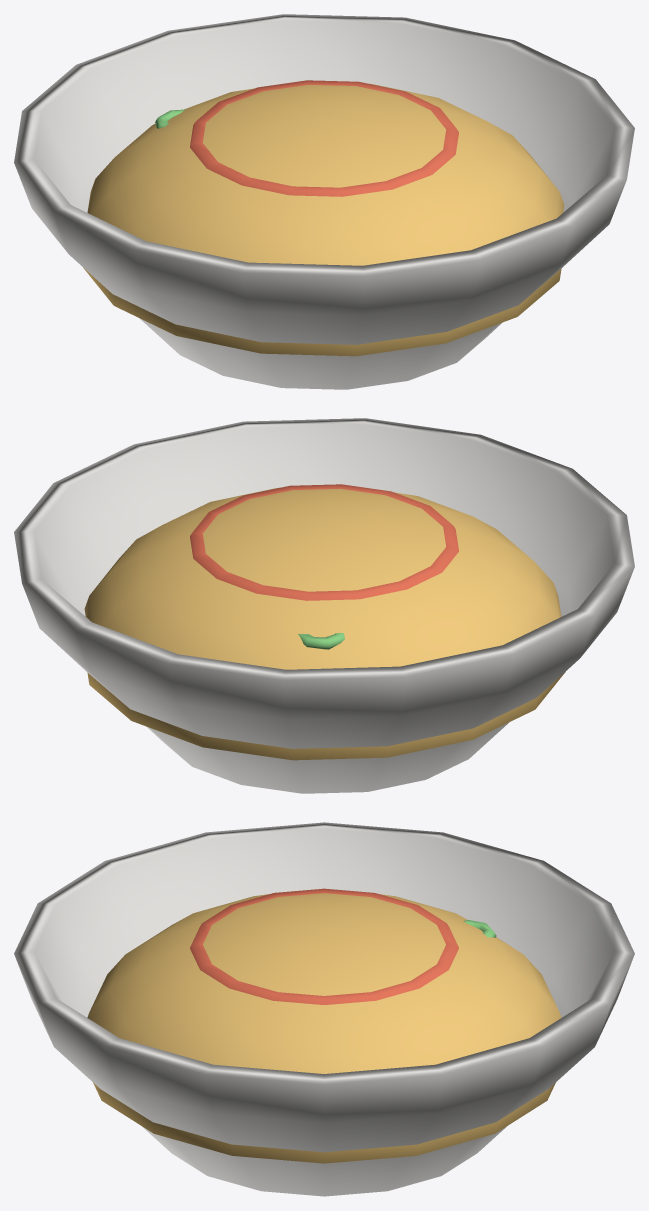
The model's file is gourmet-wok-bowl-ultralight.glb.
The picture shows the model from 3 angles, top to bottom: view 1: azimuth 30°, elevation 25°; view 2: azimuth 150°, elevation 25°; view 3: azimuth 270°, elevation 25°; orthographic projection.
Parts seen in each view (by area): view 1: gourmet-wok-bowl_Mat_Ceramic_Plate_Node, gourmet-wok-bowl_Mat_Fried_Food_Node, gourmet-wok-bowl_Mat_Glossy_Sauce_Node; view 2: gourmet-wok-bowl_Mat_Ceramic_Plate_Node, gourmet-wok-bowl_Mat_Fried_Food_Node, gourmet-wok-bowl_Mat_Glossy_Sauce_Node, gourmet-wok-bowl_Mat_Fresh_Vegetables_Node; view 3: gourmet-wok-bowl_Mat_Ceramic_Plate_Node, gourmet-wok-bowl_Mat_Fried_Food_Node, gourmet-wok-bowl_Mat_Glossy_Sauce_Node.
Part boxes in pixels (x1=…): gourmet-wok-bowl_Mat_Ceramic_Plate_Node: x1=14, y1=14, x2=634, y2=389; gourmet-wok-bowl_Mat_Fried_Food_Node: x1=83, y1=83, x2=564, y2=356; gourmet-wok-bowl_Mat_Glossy_Sauce_Node: x1=190, y1=80, x2=458, y2=196; gourmet-wok-bowl_Mat_Ceramic_Plate_Node: x1=14, y1=418, x2=634, y2=793; gourmet-wok-bowl_Mat_Fried_Food_Node: x1=84, y1=487, x2=565, y2=760; gourmet-wok-bowl_Mat_Glossy_Sauce_Node: x1=190, y1=484, x2=458, y2=600; gourmet-wok-bowl_Mat_Fresh_Vegetables_Node: x1=298, y1=633, x2=344, y2=649; gourmet-wok-bowl_Mat_Ceramic_Plate_Node: x1=14, y1=822, x2=634, y2=1196; gourmet-wok-bowl_Mat_Fried_Food_Node: x1=87, y1=893, x2=561, y2=1163; gourmet-wok-bowl_Mat_Glossy_Sauce_Node: x1=190, y1=888, x2=458, y2=1004.
Size of the model in its own units: 0.244 by 0.0859 by 0.244.
